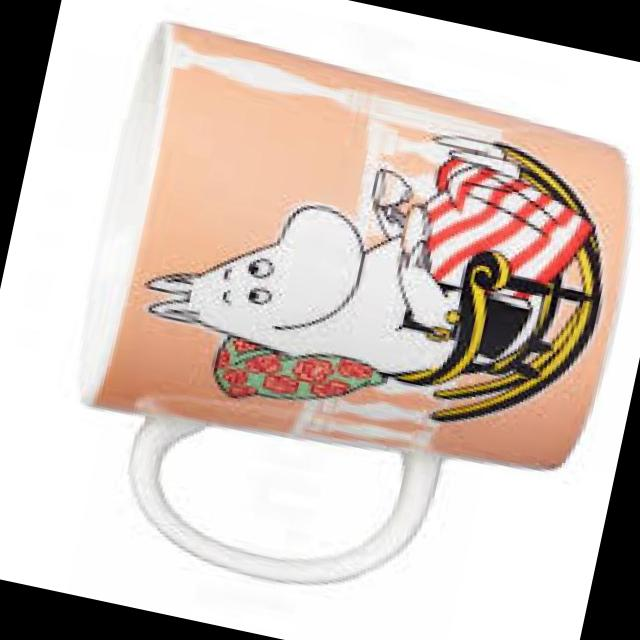Coffee Mug: (36, 14, 640, 635)
